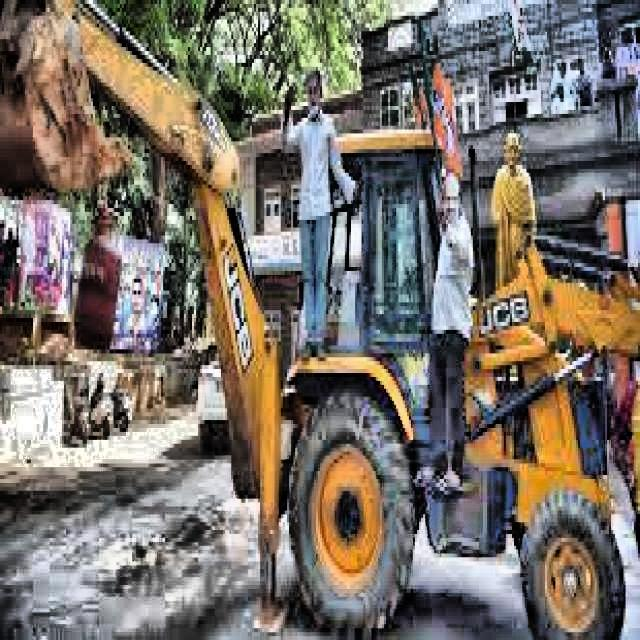bull_dozer/loader/grader: (0, 0, 640, 640)
person: (281, 62, 365, 367), (419, 162, 479, 498), (488, 117, 536, 296)
